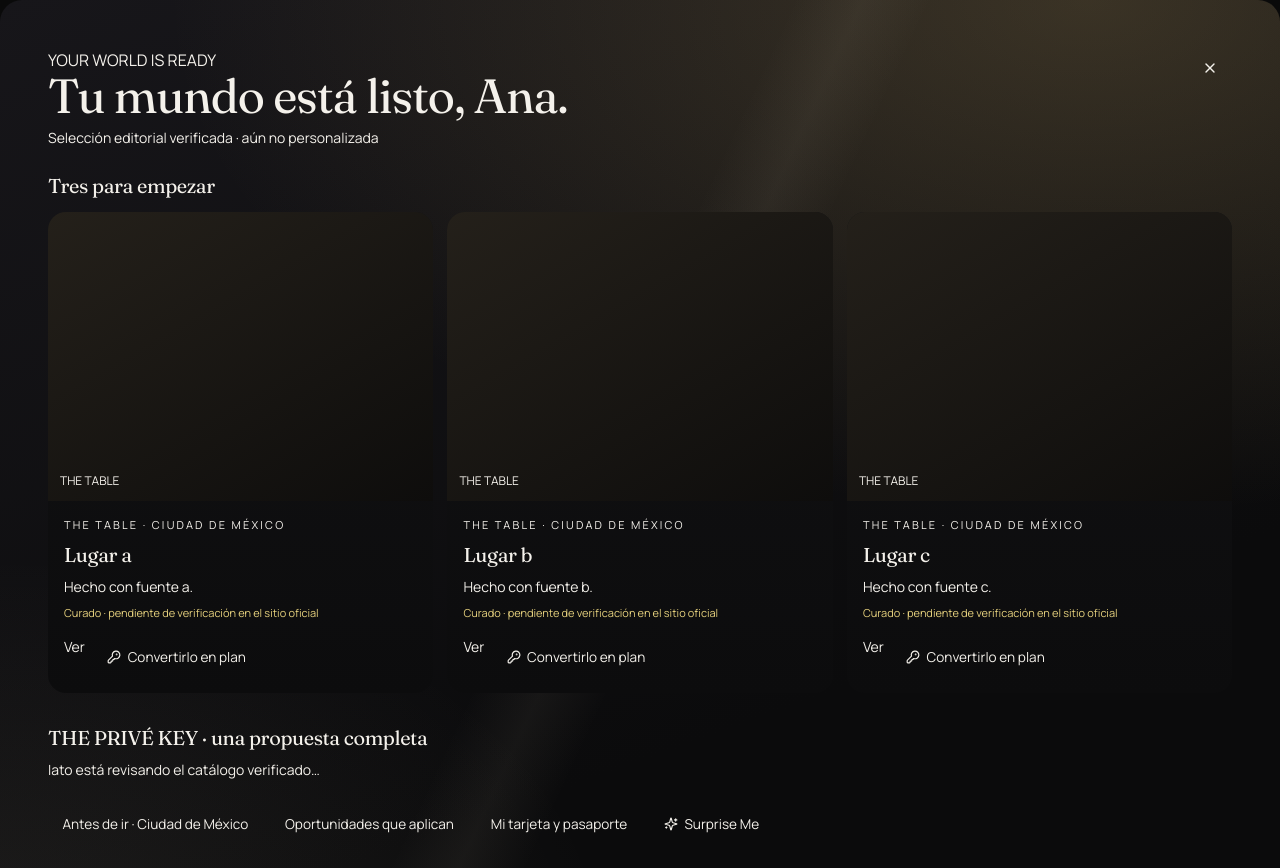
Test case: <YourWorldIsReady /> › no bloquea esperando el plan; mide el tiempo hasta abrir una experiencia y ofrece gustos rápidos sin datos
The image size is (1280, 868).
Expected: the number of elements with test id "pk-tile" is 3, [48,212,433,693]; [448,212,833,693]; [847,212,1232,693]
Expected: the text "Iato está revisando el catálogo verificado…" is shown, [48,760,320,779]
Click the link "Ver" below "Hecho con fuente a." at (74, 647), box [64,637,85,656]
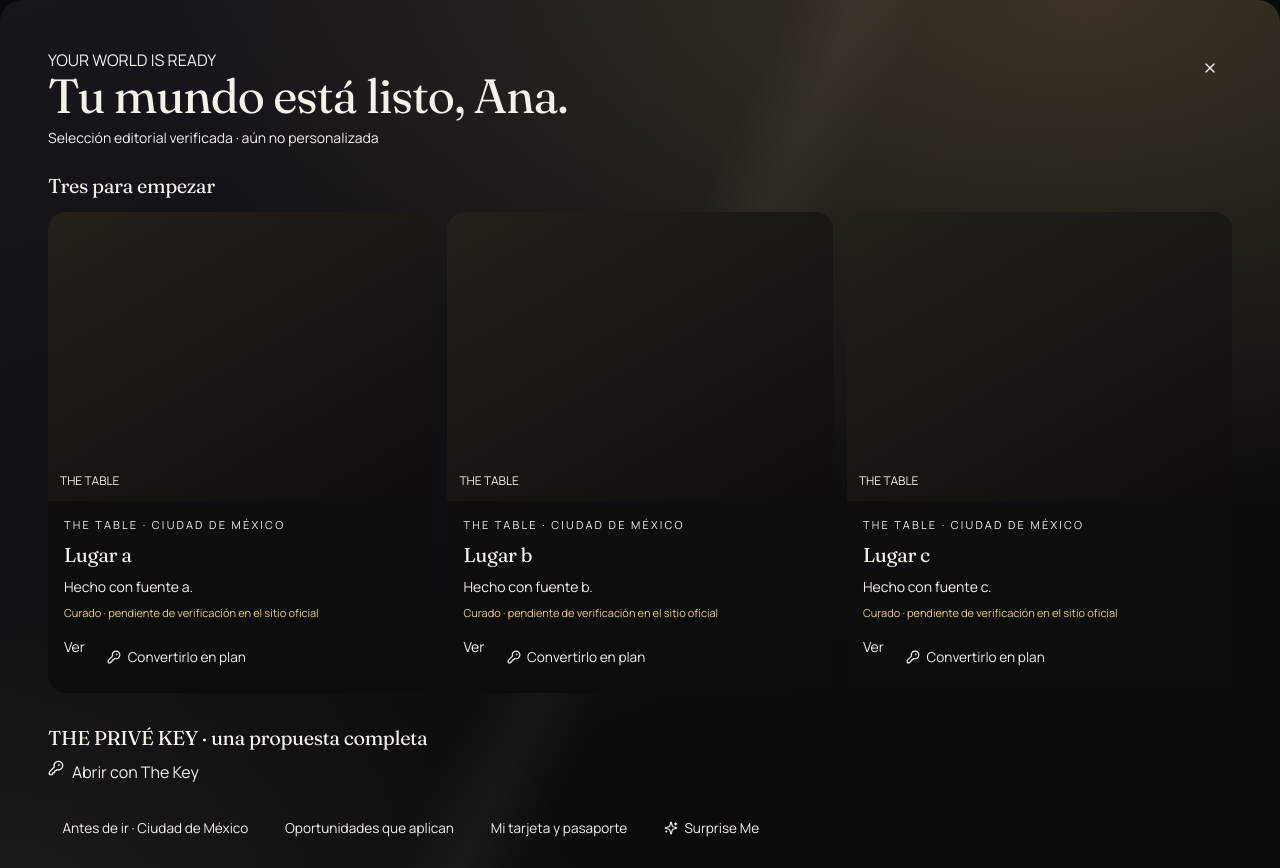
Expected: the link "Abrir con The Key" is shown, [48,760,199,784]
